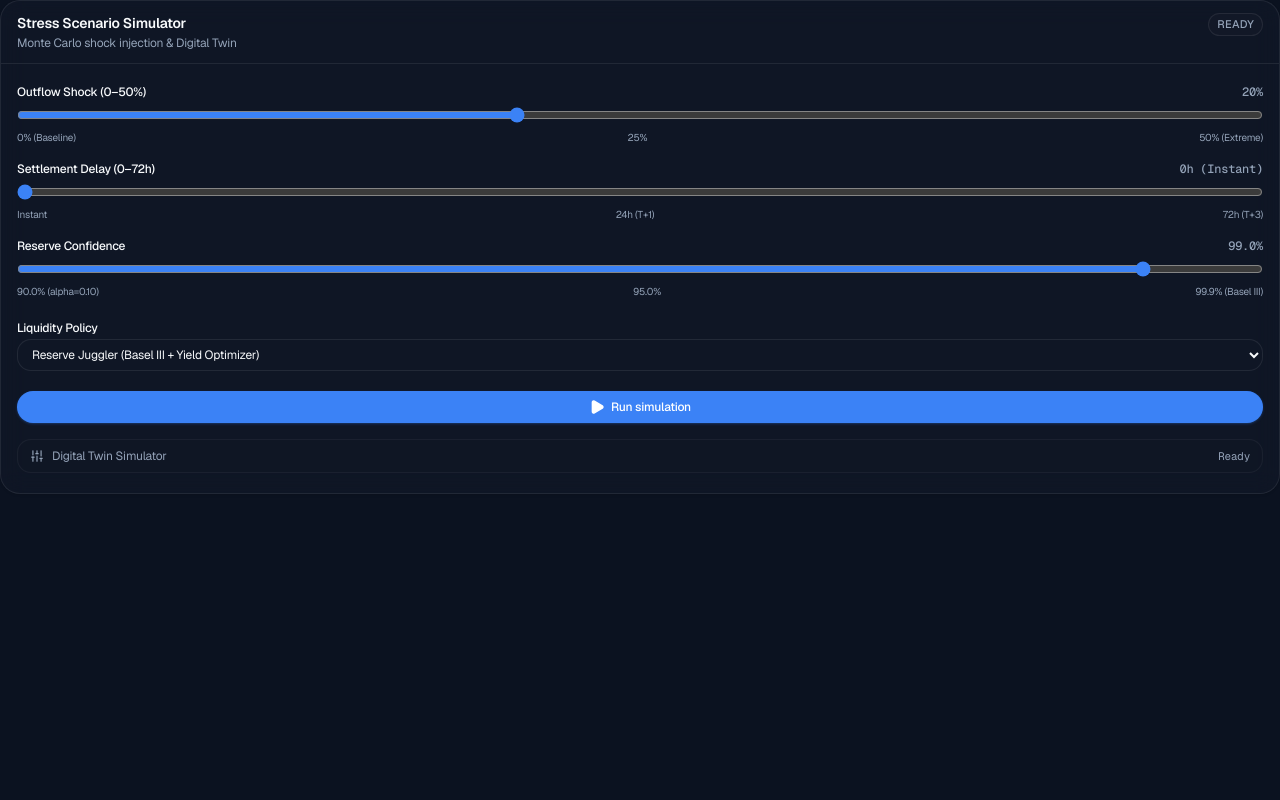
StressSimulatorPanel (Phase 18) › handles 429 rate limiting with countdown hint
Step 1. Click the button with test id "run-simulation-button" → click(640, 407), box [17, 391, 1263, 423]
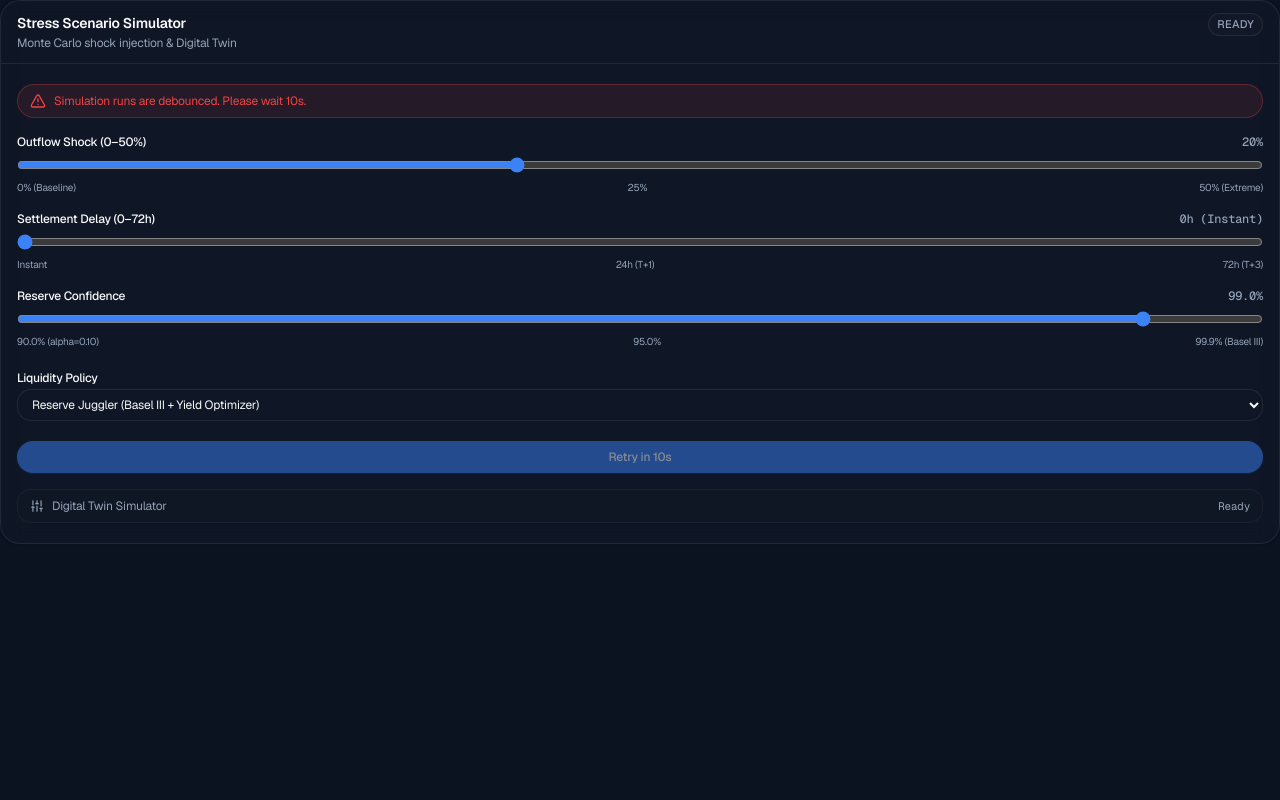
Expected: the message "Simulation runs are debounced. Please wait 10s." is shown, [17, 84, 1263, 118]
Expected: the message with test id "simulation-error" shows "Please wait 10s", [54, 93, 306, 109]
